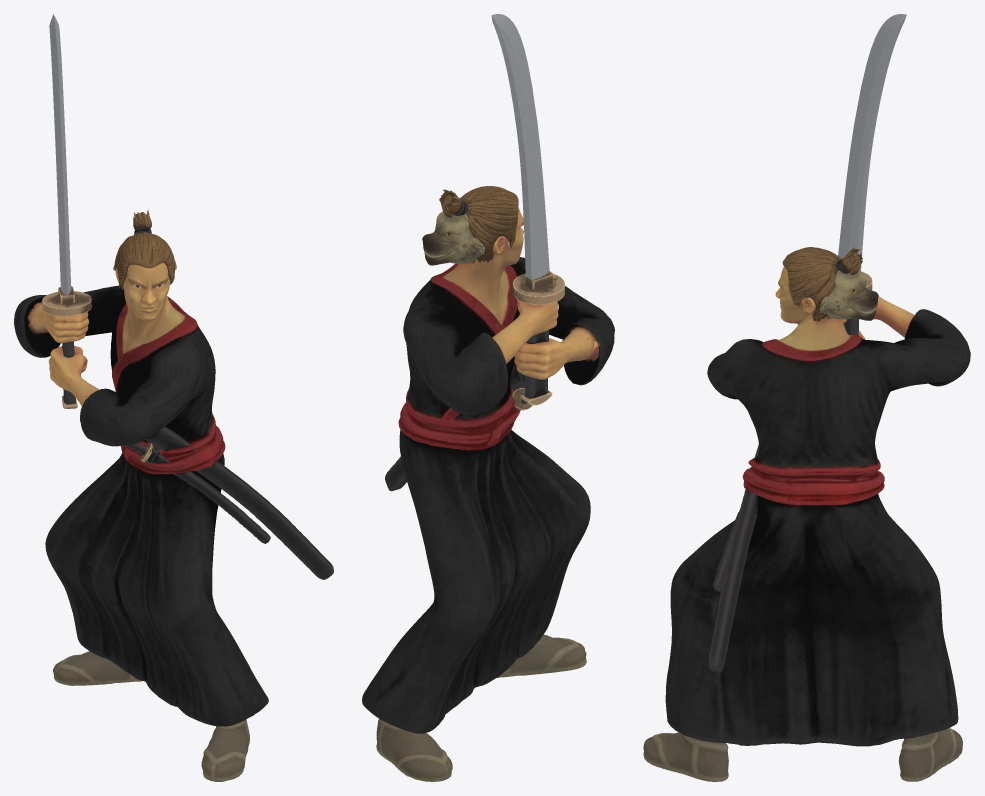
Rendered from MZ4250 - Demon - Kishi.glb.
The picture shows the model from 3 angles, left to right: view 1: azimuth 30°, elevation 25°; view 2: azimuth 150°, elevation 25°; view 3: azimuth 270°, elevation 25°; orthographic projection. The views are drawn at different scales.
Parts seen in each view (by area): view 1: Body.001; view 2: Body.001; view 3: Body.001.
Part boxes in pixels (x1=…): Body.001: x1=14, y1=14, x2=333, y2=781; Body.001: x1=362, y1=14, x2=614, y2=781; Body.001: x1=643, y1=14, x2=970, y2=781.
Size of the model in its own units: 4.52 by 13.17 by 5.45.
5 materials, 5 textured.
